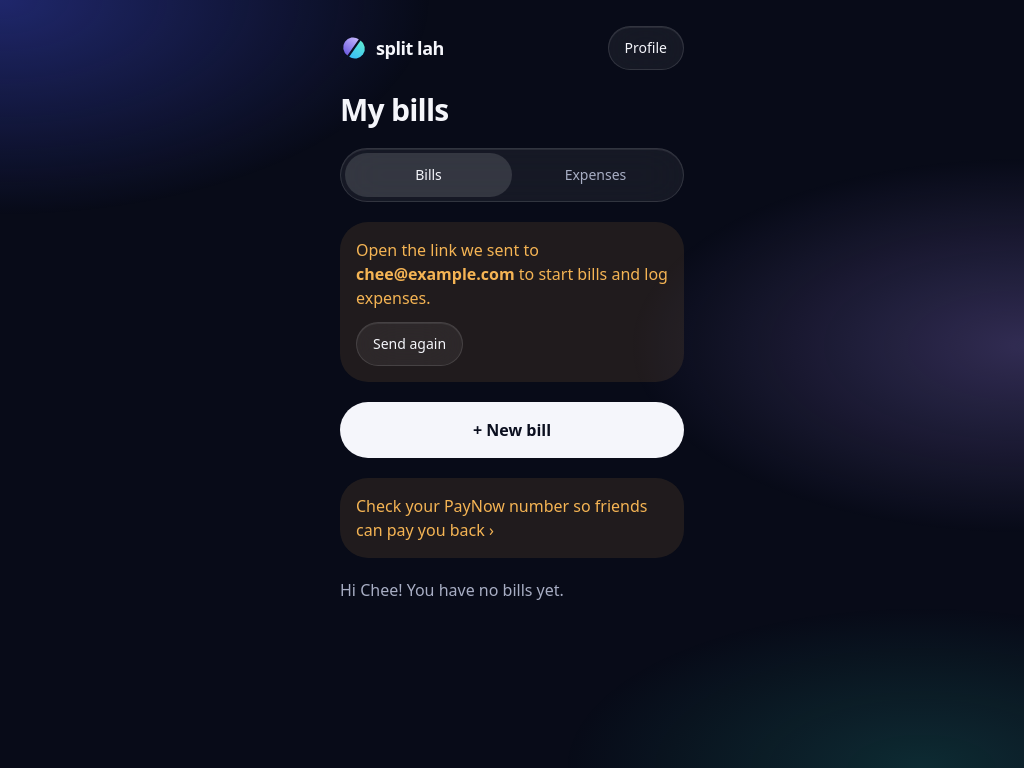
Verify banner on the home screens › tells an unverified user why, and sends a new link on "Send again"
The width and height of the screenshot is (1024, 768).
Expected: the text "chee@example.com" is shown, top-left (356, 263), bottom-right (515, 285)
Click the button "Send again" at [410, 344], box top-left (356, 322), bottom-right (463, 366)
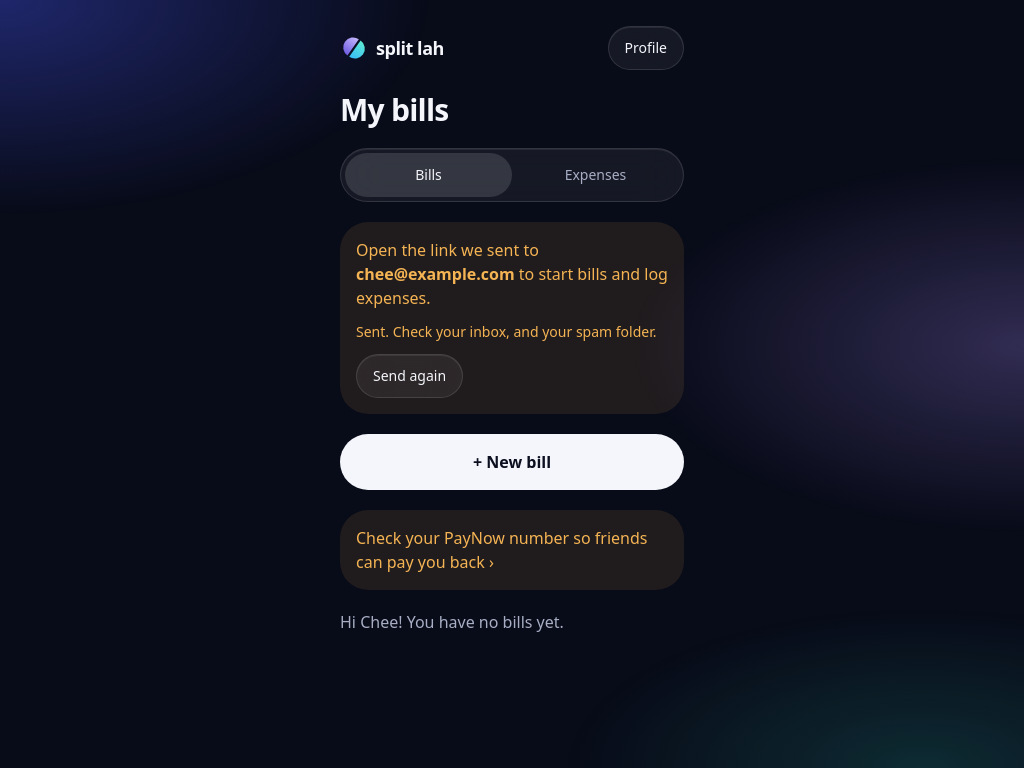
Expected: the message shows "Sent. Check your inbox", top-left (356, 322), bottom-right (656, 341)
